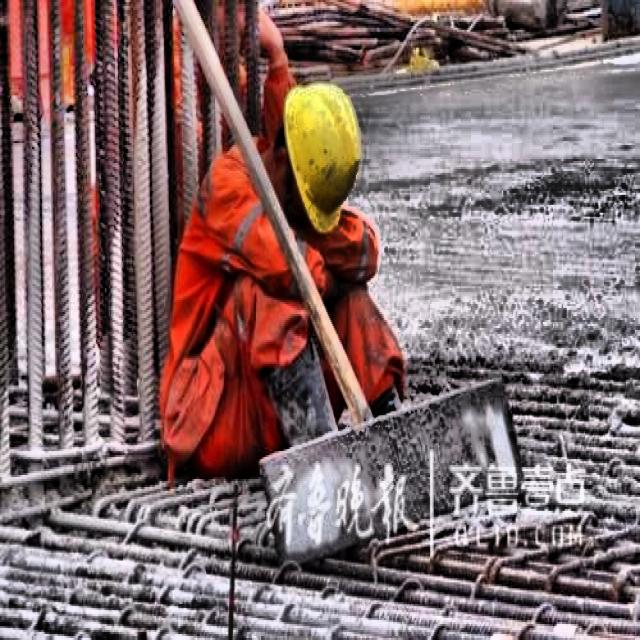helmet: (266, 74, 372, 226)
